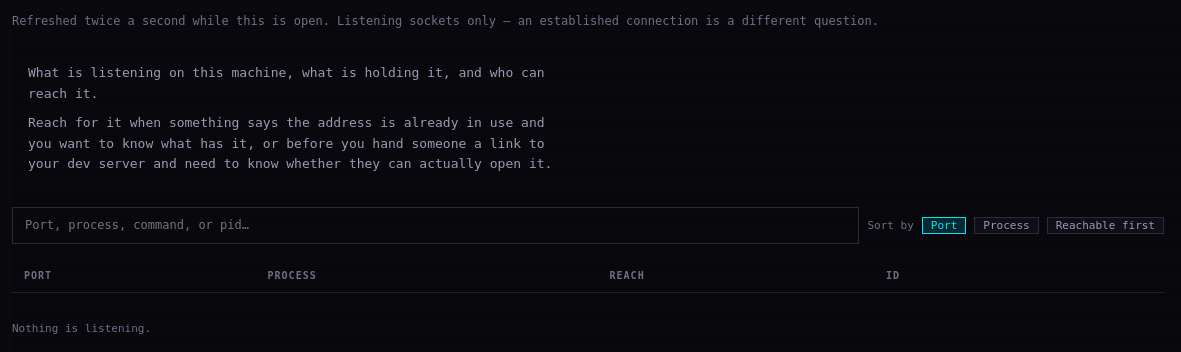
Test: PortsTool › says why it is empty when a search is what emptied it
The width and height of the screenshot is (1181, 352).
Expected: the text "Nothing is listening." is shown, [12,322,151,335]
Type "zzz" into the search field named "search ports" at x=436, y=226, box [12,207,859,244]
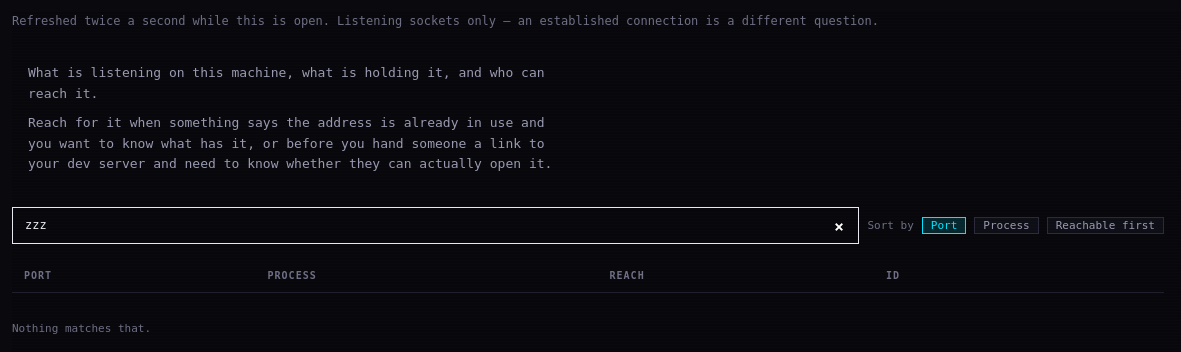
Result: the text "Nothing matches that." is shown at [12,322,151,335]
